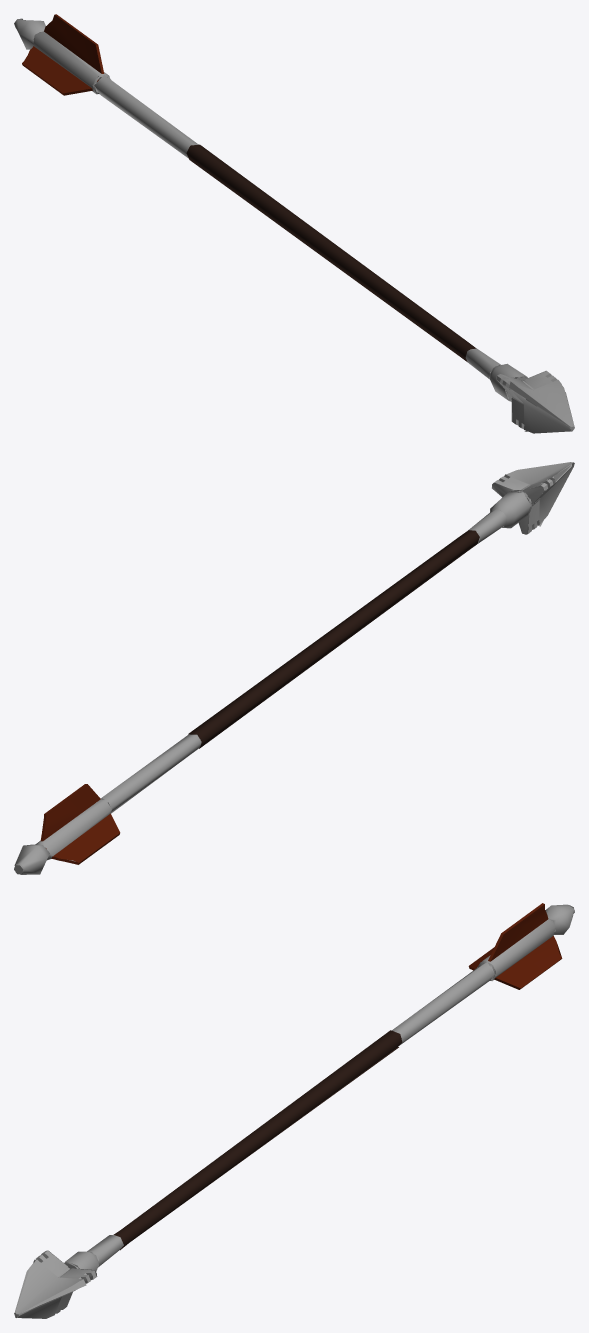
The model's file is Arrow.fbx.
3 renders of one model, top to bottom at view 1: azimuth 30°, elevation 25°; view 2: azimuth 150°, elevation 25°; view 3: azimuth 330°, elevation 25°, orthographic.
Visible parts, largest first — view 1: arrow low poly; view 2: arrow low poly; view 3: arrow low poly.
Part boxes in pixels (left/top/right/bottom): arrow low poly: left=14, top=14, right=574, bottom=433; arrow low poly: left=14, top=462, right=574, bottom=874; arrow low poly: left=14, top=903, right=574, bottom=1318.
Size of the model in its own units: 20.24 by 20.63 by 332.
